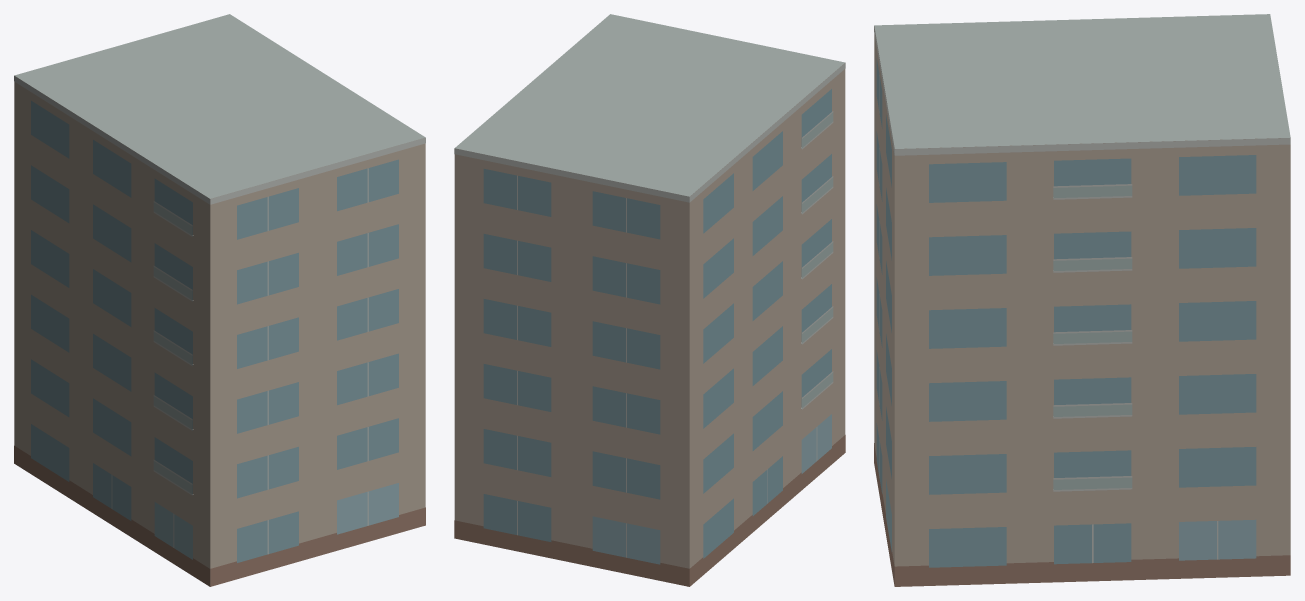
Rendered from survey-upis-32957256.glb.
3 views of the same model, side by side, from view 1: azimuth 30°, elevation 25°; view 2: azimuth 150°, elevation 25°; view 3: azimuth 270°, elevation 25° (orthographic). The views are drawn at different scales.
Parts seen in each view (by area): view 1: survey-upis-32957256.tmp; view 2: survey-upis-32957256.tmp; view 3: survey-upis-32957256.tmp.
Boxes of the visible parts, left/top/right/bottom form: survey-upis-32957256.tmp: left=14, top=14, right=425, bottom=586; survey-upis-32957256.tmp: left=454, top=14, right=845, bottom=586; survey-upis-32957256.tmp: left=874, top=14, right=1290, bottom=586.
Size of the model in its own units: 10.53 by 15.9 by 13.72.
